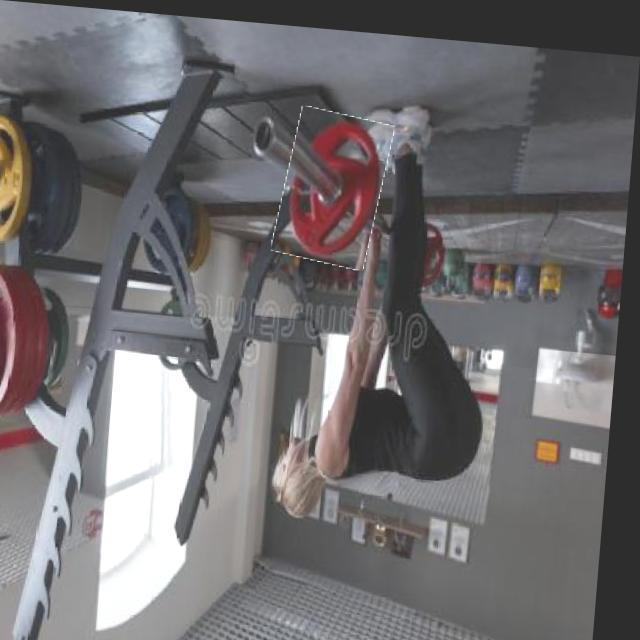barbell: (280, 102, 393, 262)
